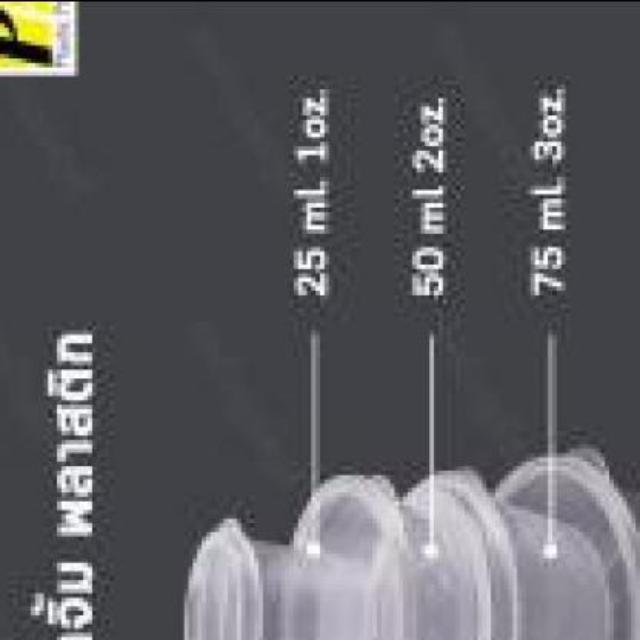plastic_box: (389, 470, 615, 638), (482, 426, 636, 638), (284, 466, 473, 638), (185, 513, 381, 639)
